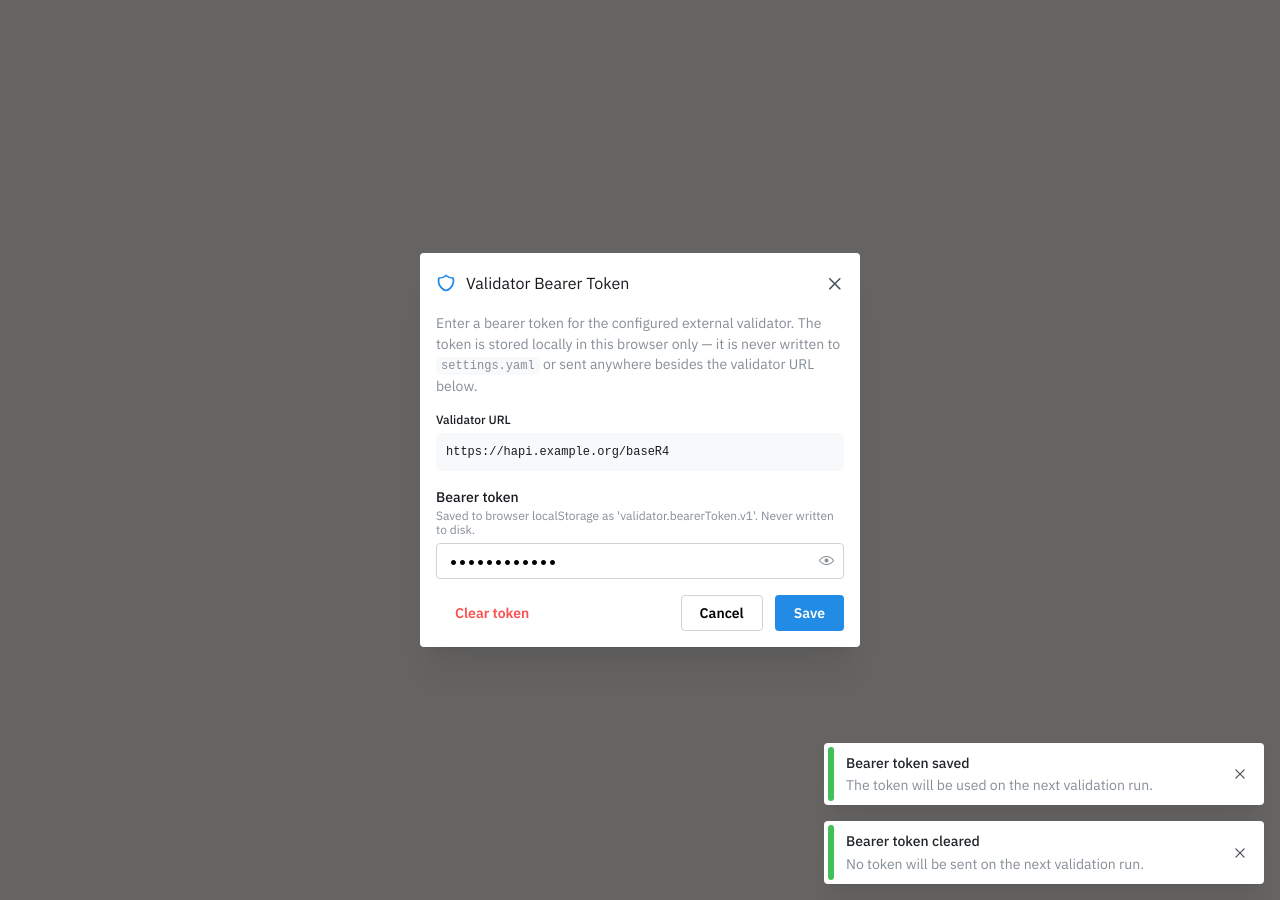
Scenario: ValidatorAuthSettingsModal — Plan 43-01 Task 6 › Test 3 — Clear button removes the localStorage key and resets input
The image size is (1280, 900).
Check: the password field labelled "Bearer token" holds "tok-EXISTING", box x1=437 y1=544 x2=843 y2=578
Step 1. Click the button "Clear token" → (492, 613), box x1=436 y1=595 x2=548 y2=631
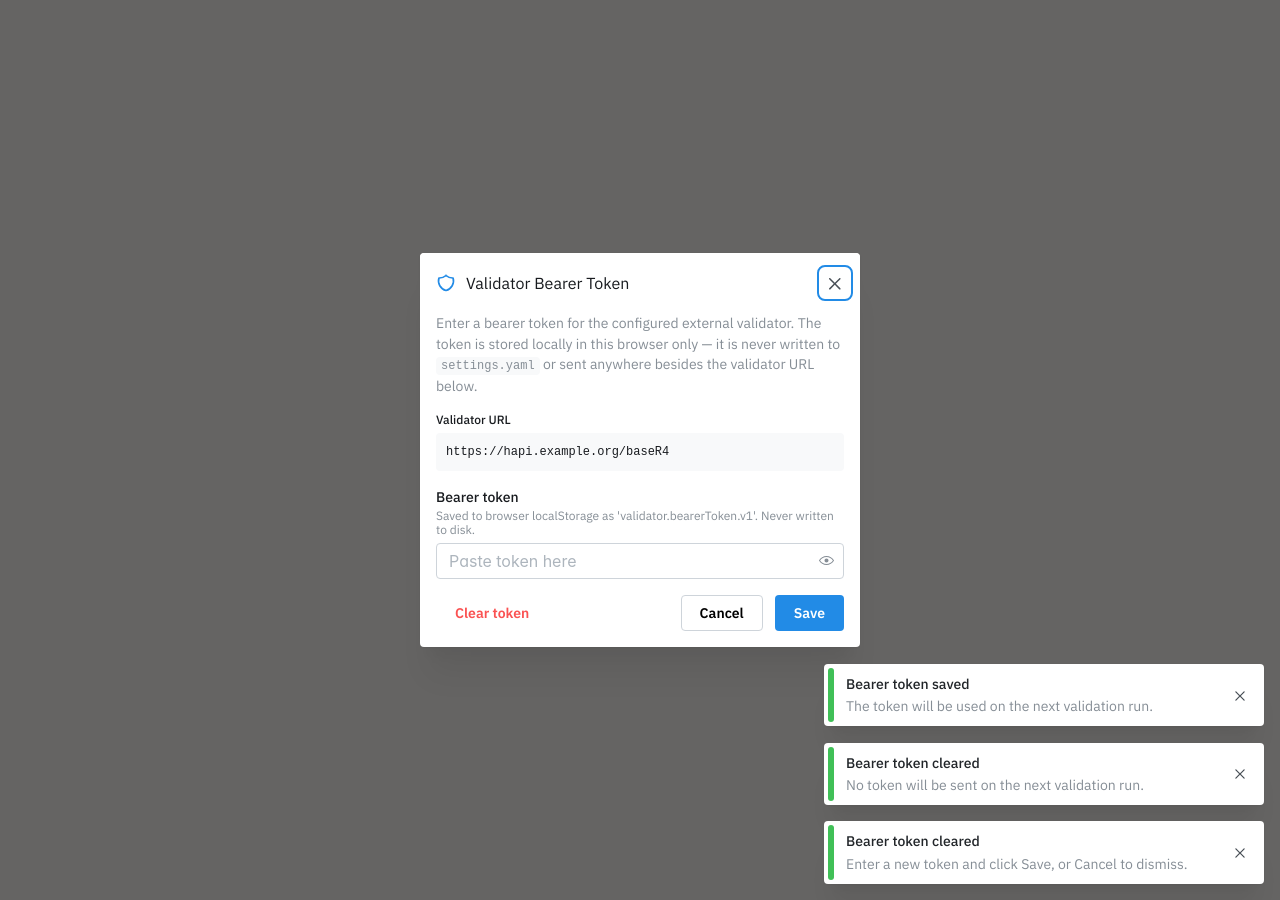
Check: the password field labelled "Bearer token" is empty, box x1=437 y1=544 x2=843 y2=578
